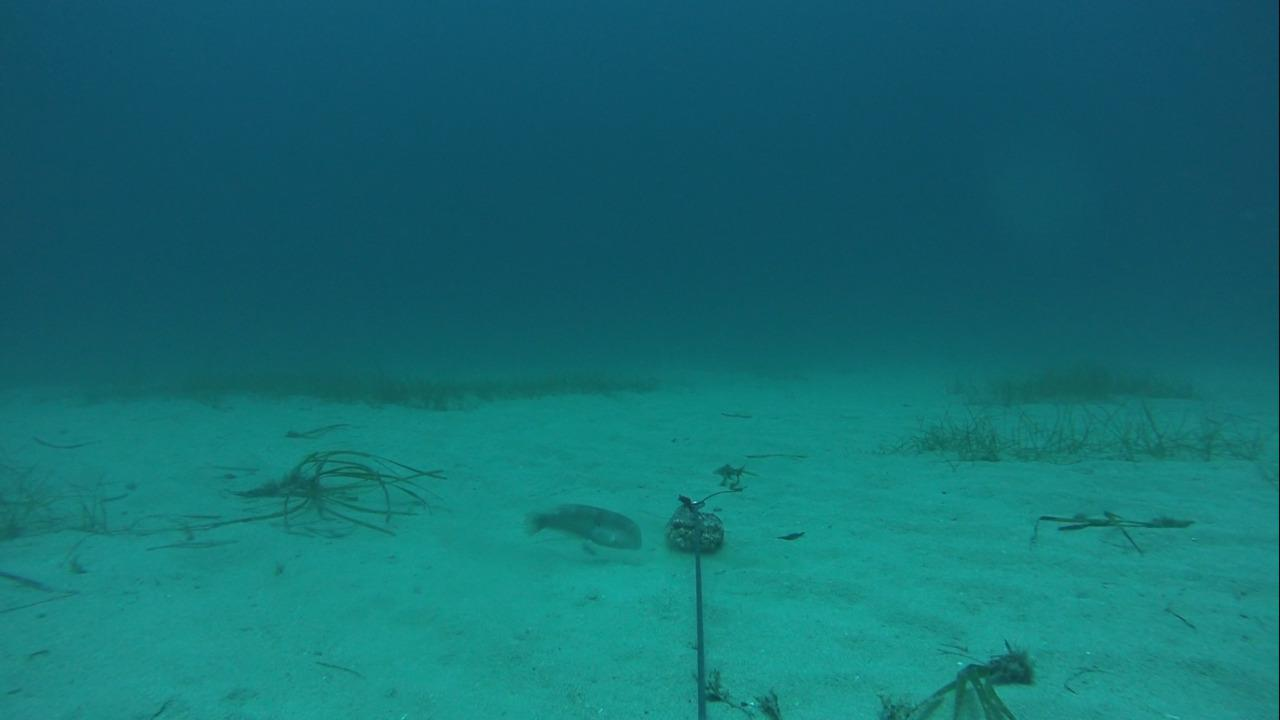raor: (510, 497, 646, 556)
